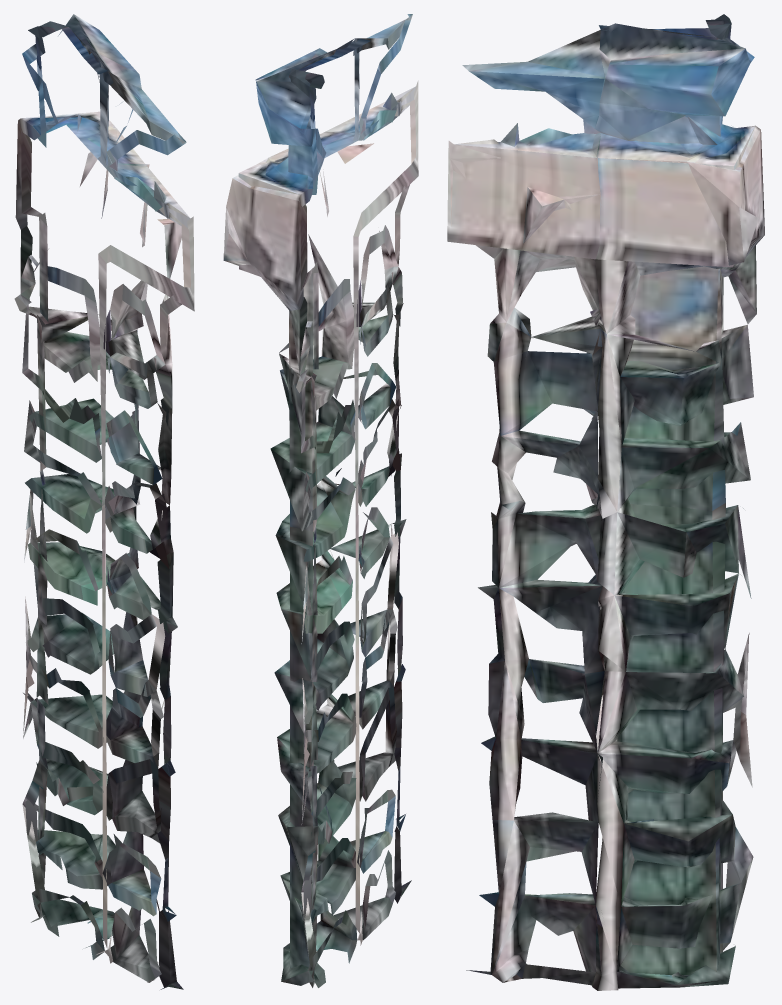
The picture shows the model from 3 angles, left to right: view 1: azimuth 30°, elevation 25°; view 2: azimuth 150°, elevation 25°; view 3: azimuth 270°, elevation 25°; orthographic projection. The views are drawn at different scales.
Parts seen in each view (by area): view 1: Mesh_0; view 2: Mesh_0; view 3: Mesh_0.
Boxes of the visible parts, <box> form: Mesh_0: <box>14,14,194,989</box>; Mesh_0: <box>223,14,418,987</box>; Mesh_0: <box>447,14,764,990</box>.
Bounding box in the file's own units: 3.85 × 37.25 × 11.22.
1 material, 1 textured.
